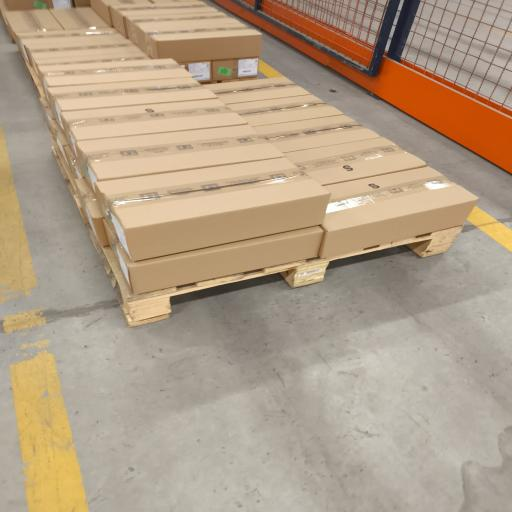pallet: (53, 148, 462, 326), (103, 227, 462, 326)
